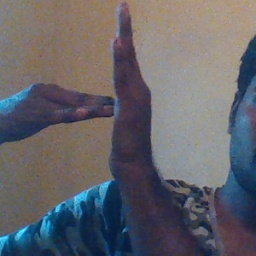Z: (51, 1, 160, 169)
